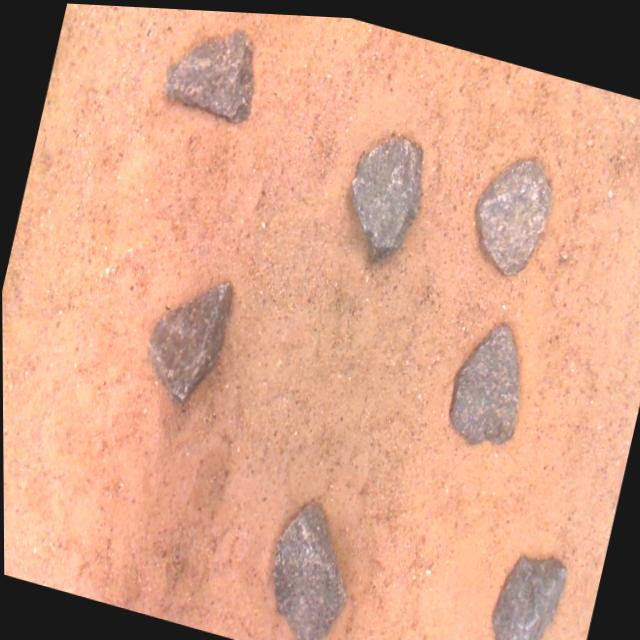rock: (271, 498, 344, 638), (147, 277, 230, 399), (350, 132, 421, 254), (474, 152, 549, 267), (447, 317, 517, 437), (162, 26, 252, 118), (490, 548, 564, 640)
